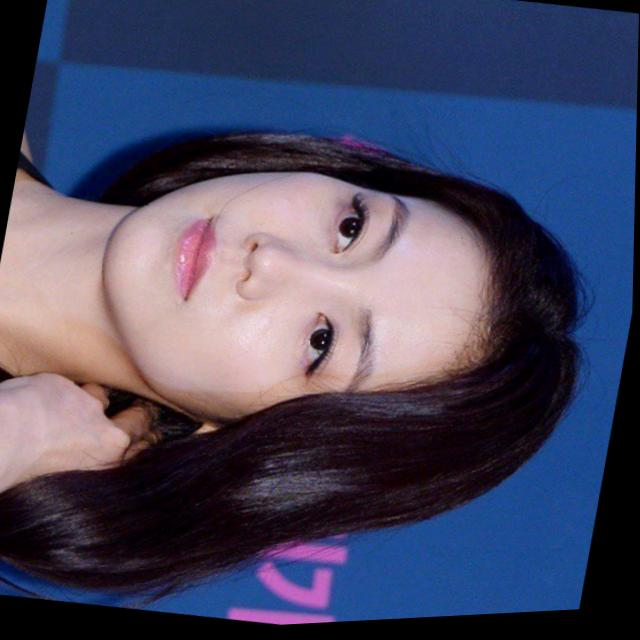face: (81, 139, 509, 463)
